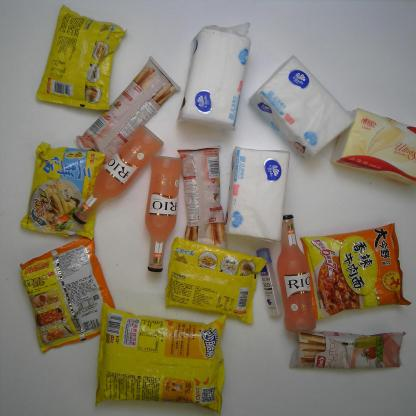Alcohol: (71, 124, 165, 224), (276, 214, 317, 335), (143, 155, 183, 273)
Dessert: (75, 54, 181, 170), (178, 144, 226, 259), (288, 329, 407, 370)
Instant Noodles: (19, 234, 116, 354), (299, 222, 411, 320), (35, 4, 128, 111), (164, 236, 268, 326), (20, 141, 106, 242)
Puffed Food: (95, 301, 228, 416)
Stationery: (256, 247, 285, 317)
Tissue: (248, 54, 355, 162), (175, 21, 251, 131), (330, 108, 416, 186), (224, 146, 290, 244)
